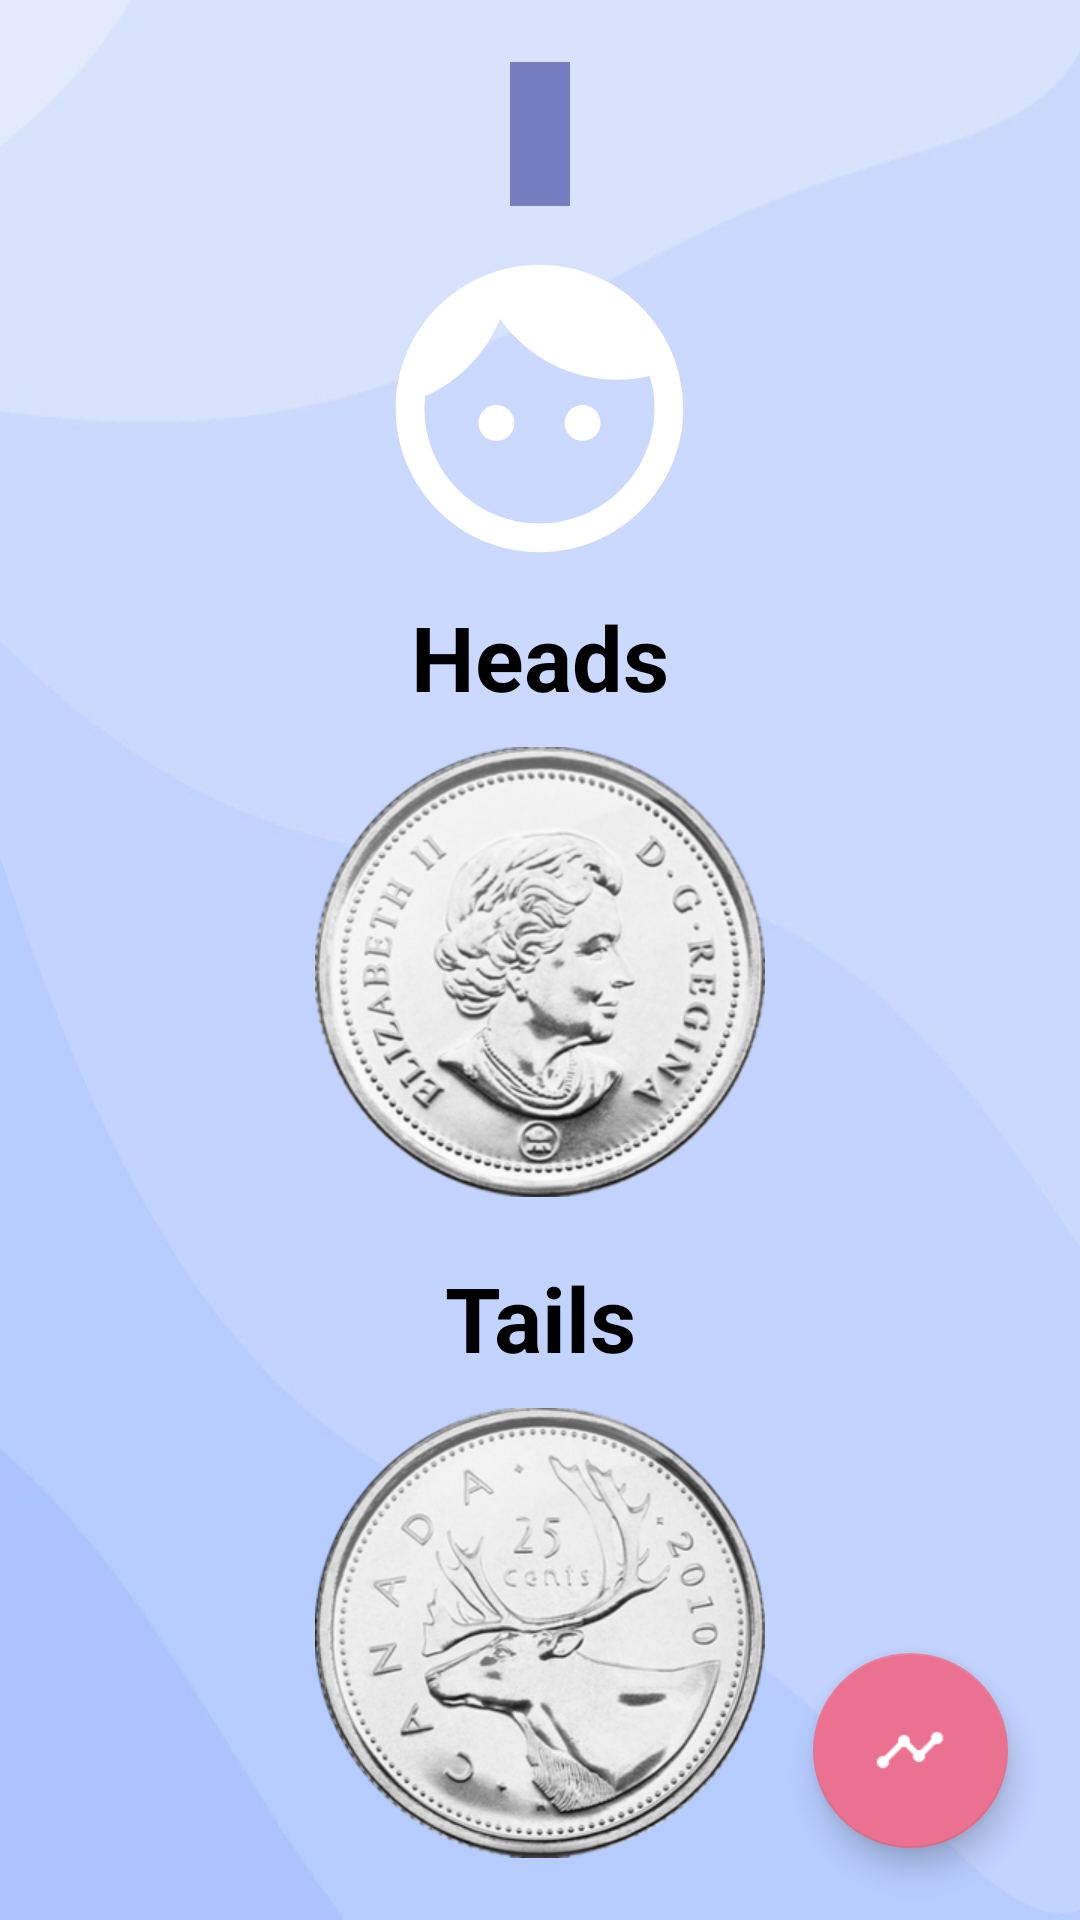

Screen size 1080px x 1920px. Icon name, then its center in pixels as (x,y):
chart: (910,1750)
child portrait: (539,408)
